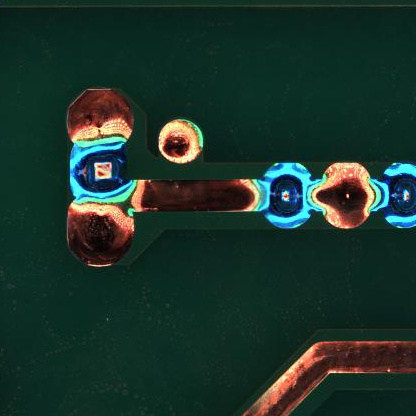spot: (67, 141, 131, 203), (263, 160, 311, 229), (379, 159, 416, 230)
